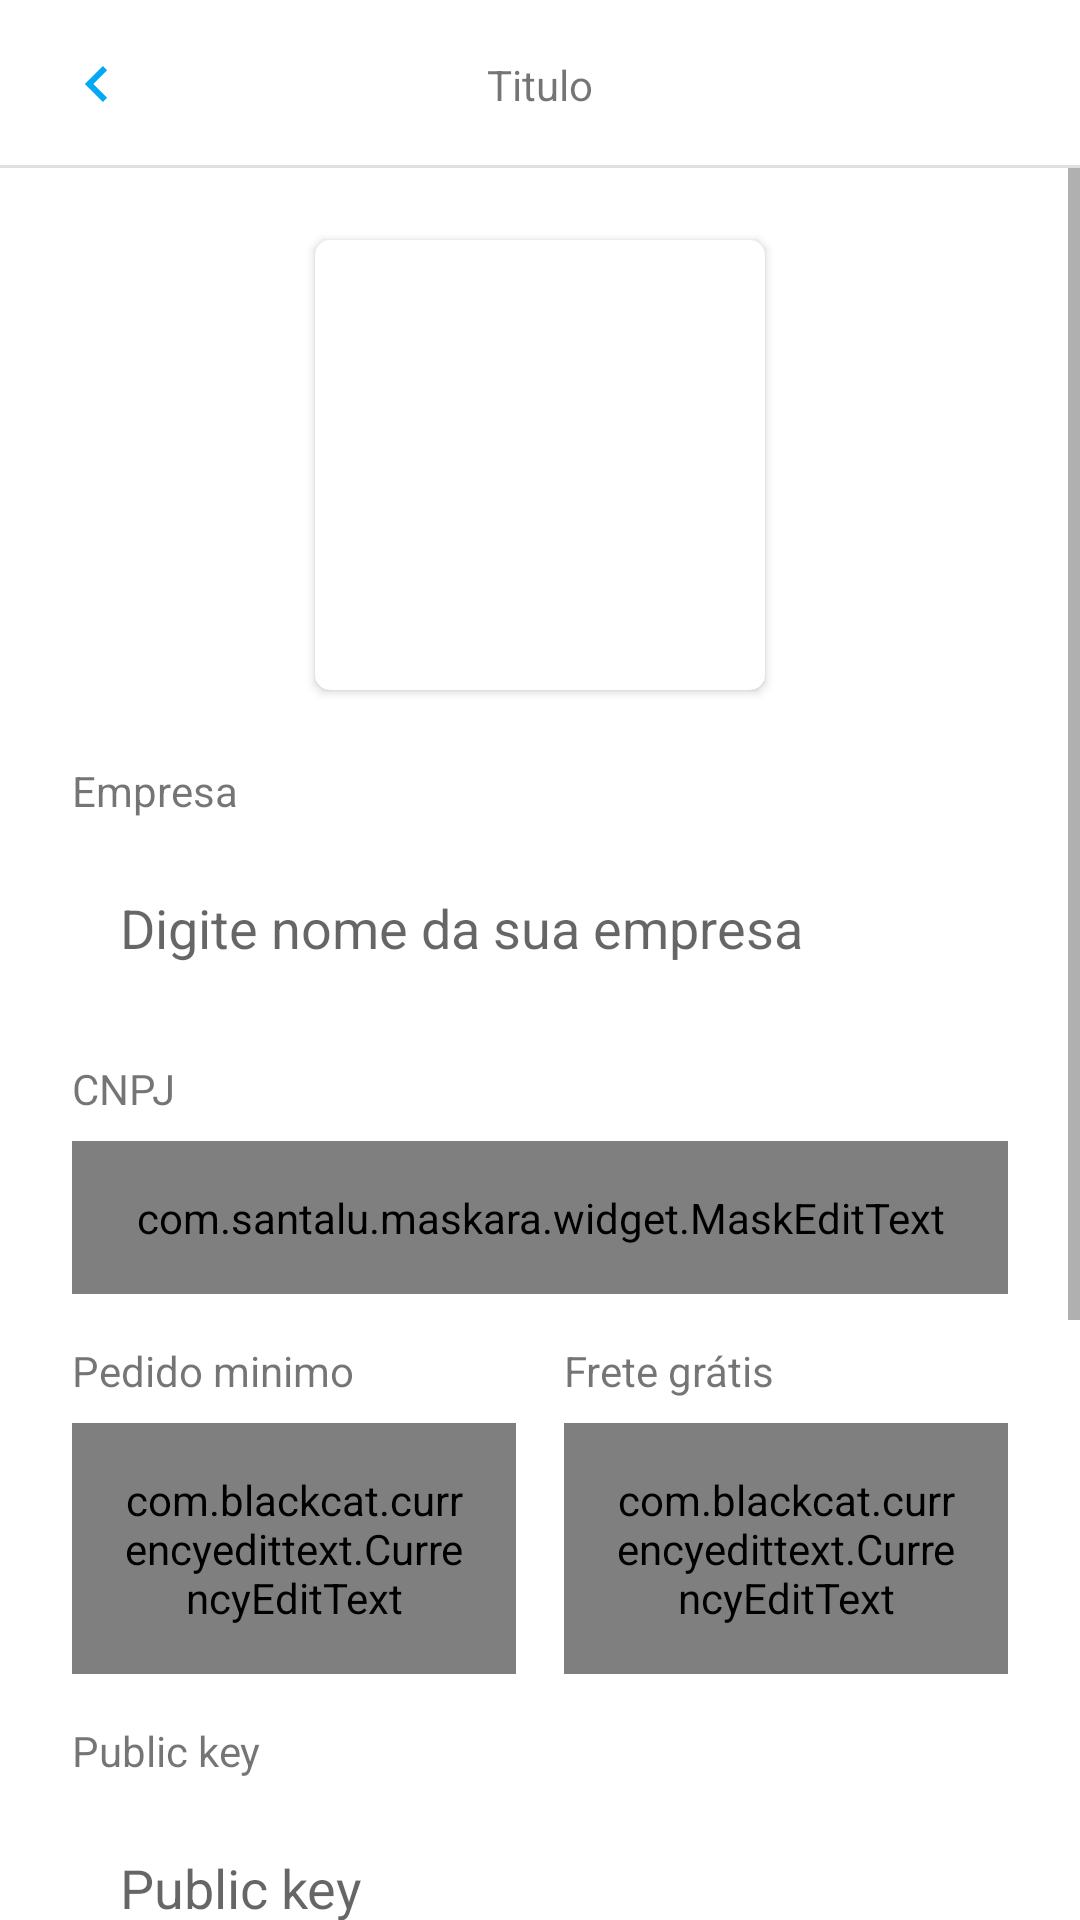

Screen size 1080px×1920px. Icon name, then its center in pixels as (x,y):
voltar: (96,84)
